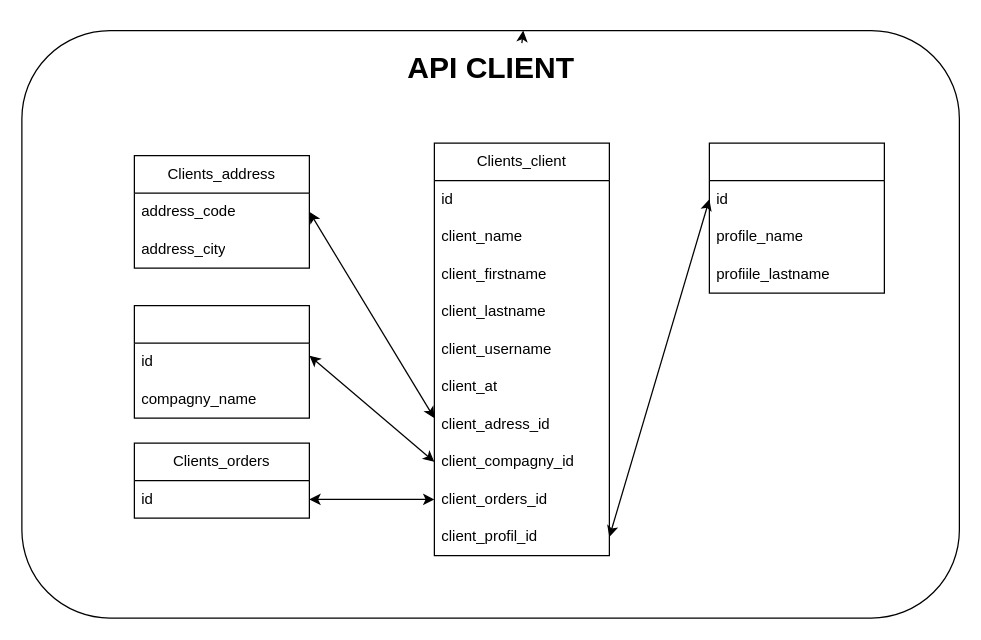
The diagram is 981 pixels wide and 640 high, and some of its shapes have lost their labels. Here are the shapes that lost their labels. From the top down, the box of each, then its label:
(708, 142, 884, 293): Clients_profile
(133, 304, 309, 418): Clients_compagny
